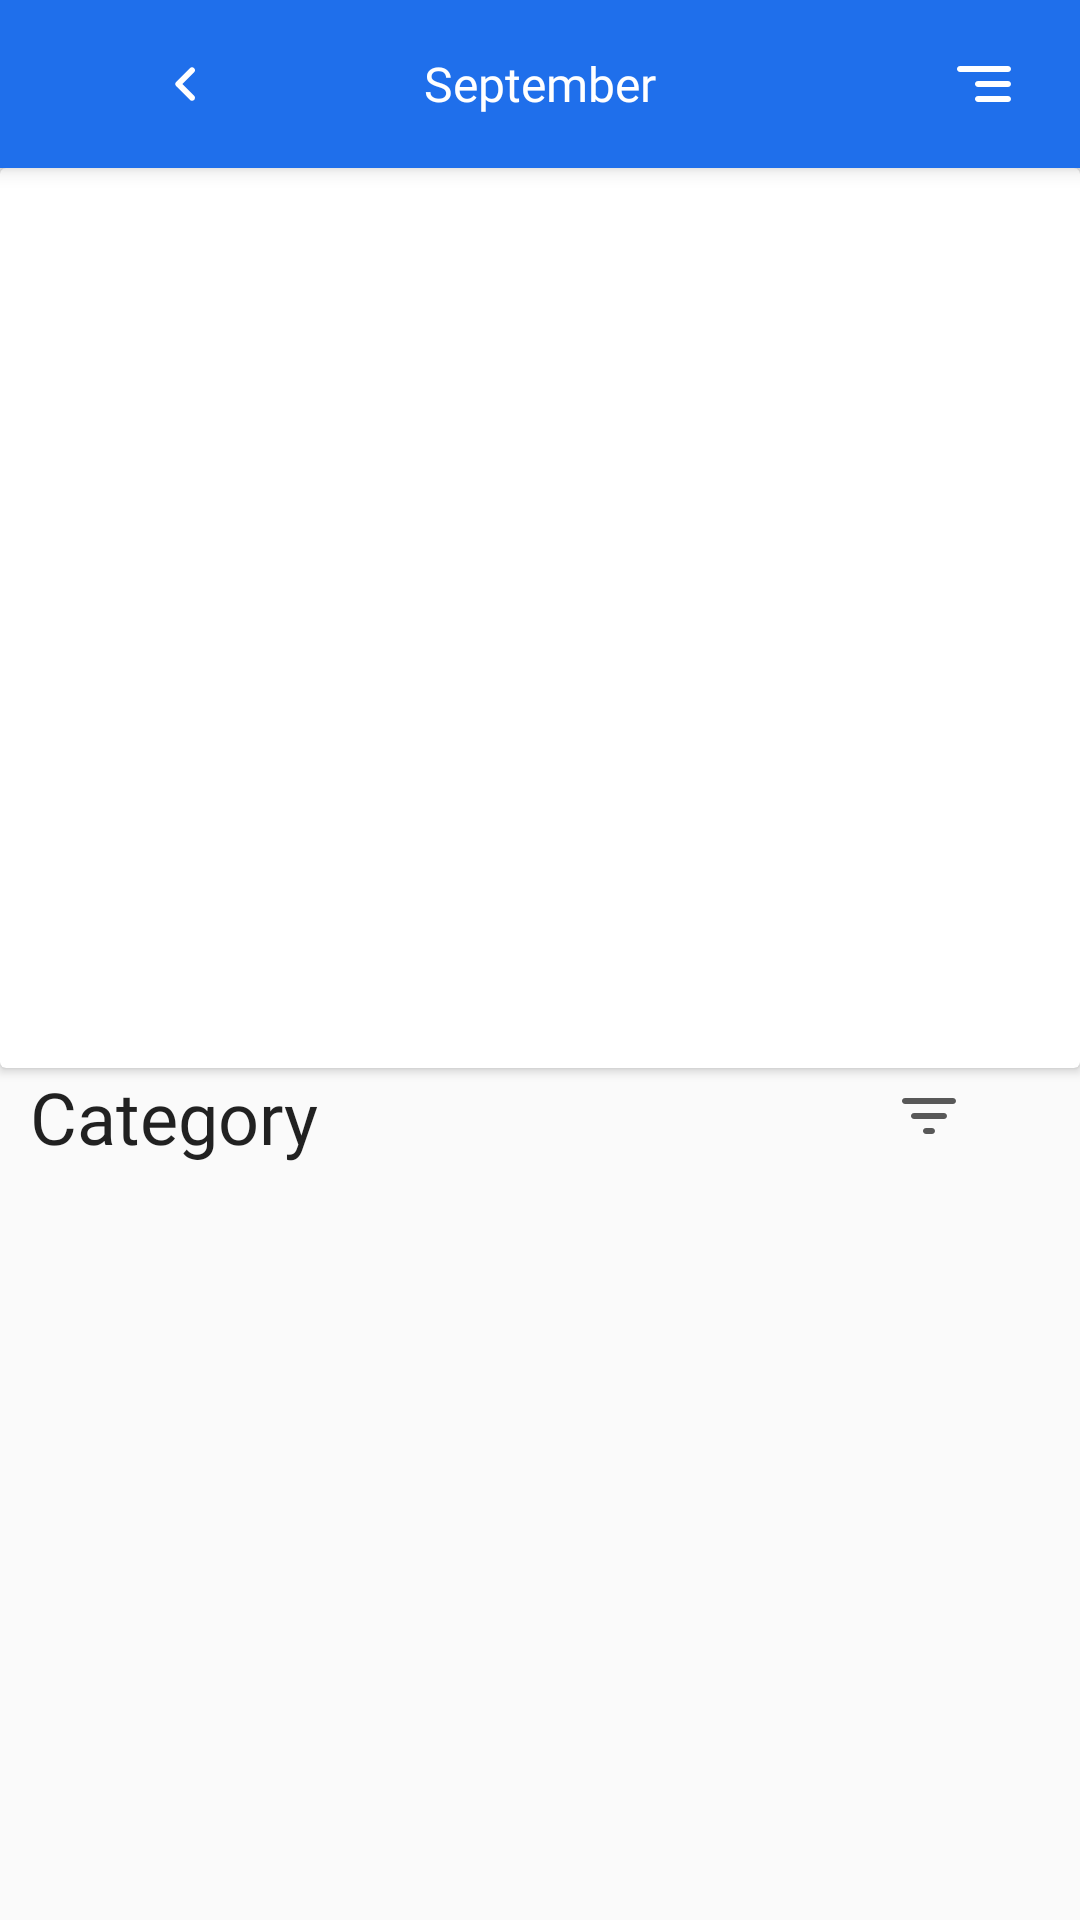

Icons on this 1080px×1920px Android screen, each with the point to tap as [x,y]:
arrow left: [185,84]
short: [929,1116]
